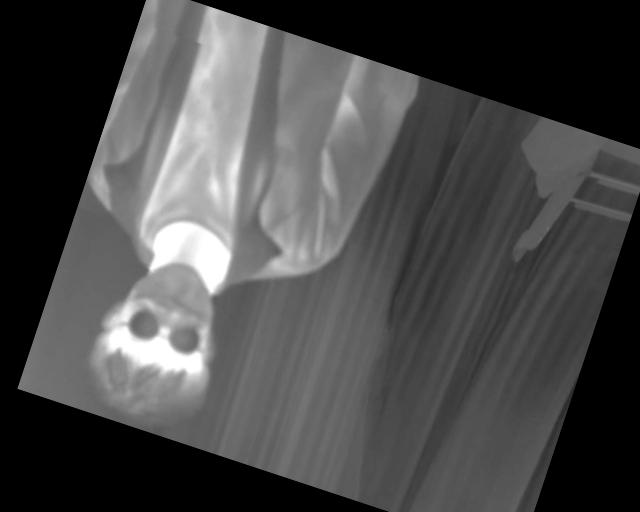face: (75, 244, 240, 436)
